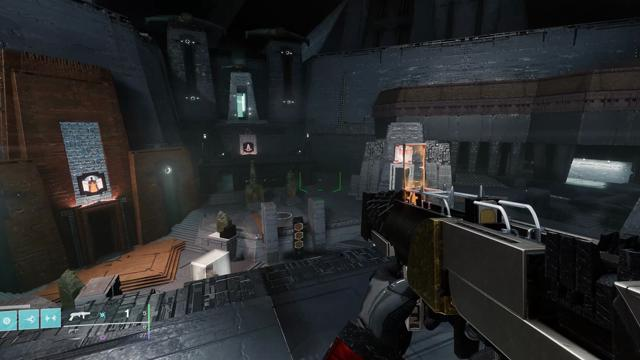enter: (245, 143, 253, 151)
give: (397, 148, 410, 159)
worship: (82, 176, 103, 193)
